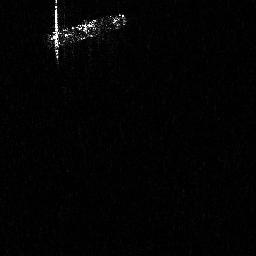ship: (45, 1, 127, 65)
